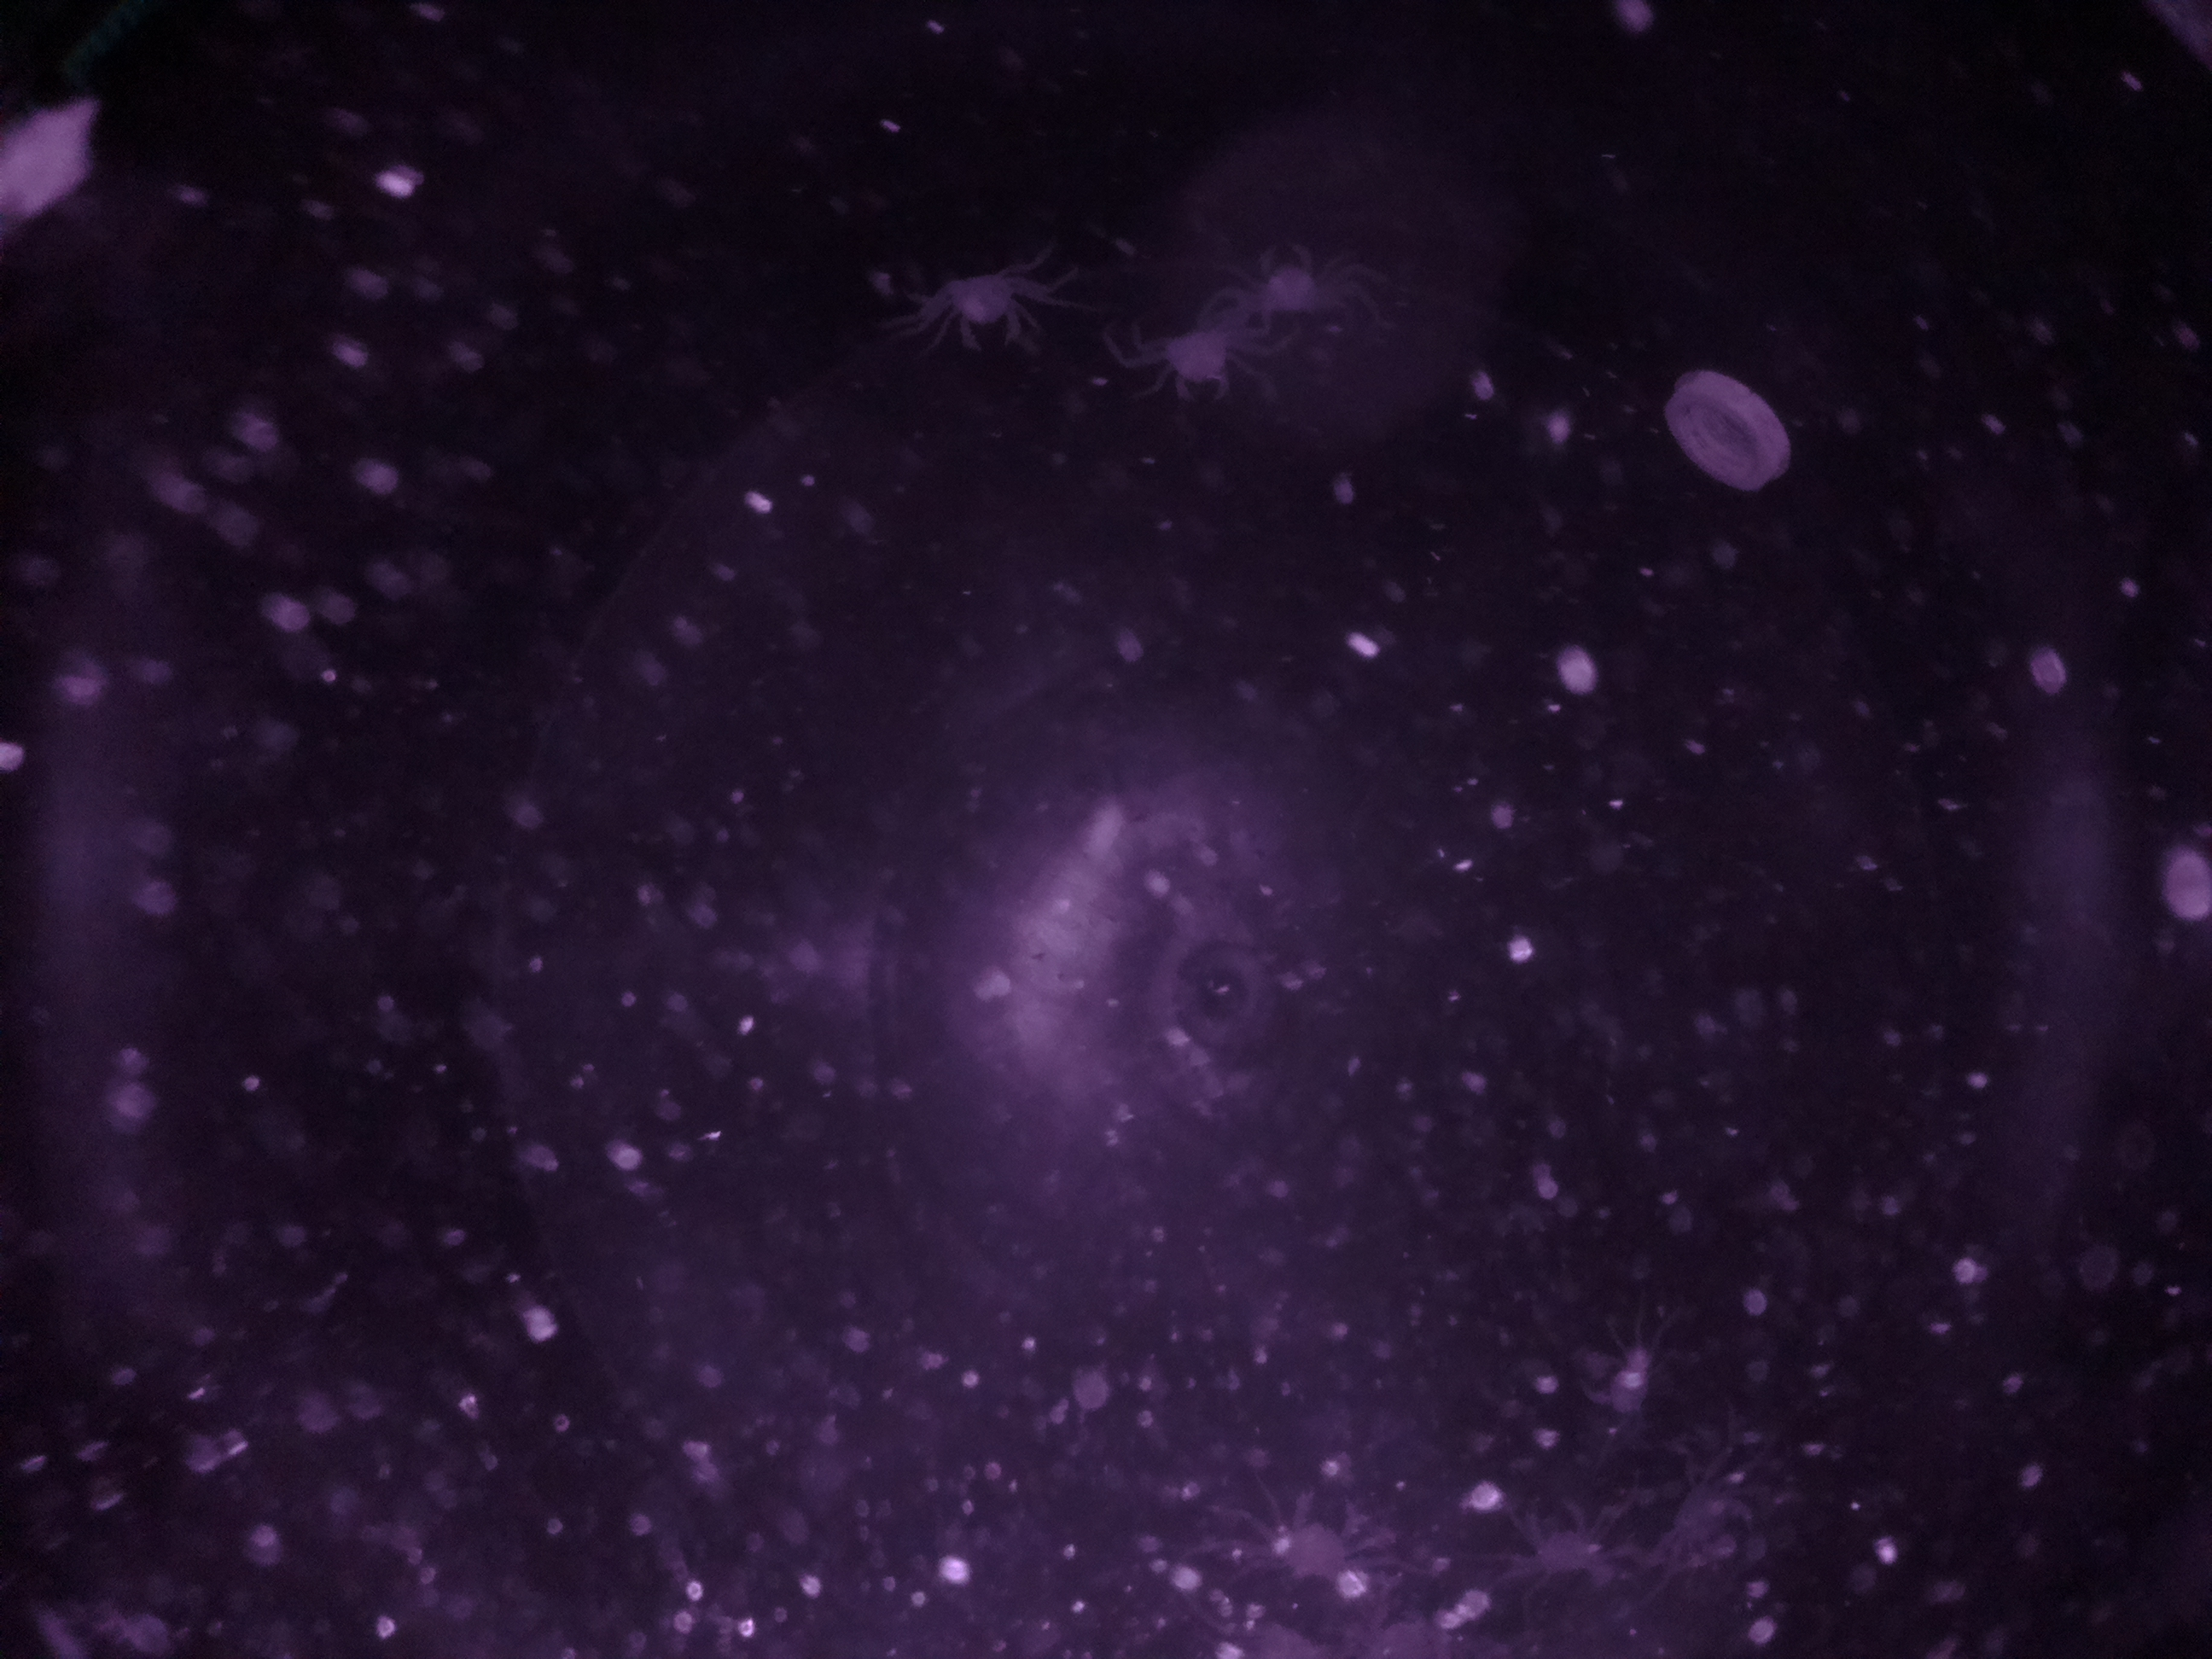Crab: (1266, 1469, 1378, 1596), (937, 251, 1038, 371), (1150, 293, 1249, 410), (1507, 1488, 1606, 1596), (1240, 230, 1338, 331)
